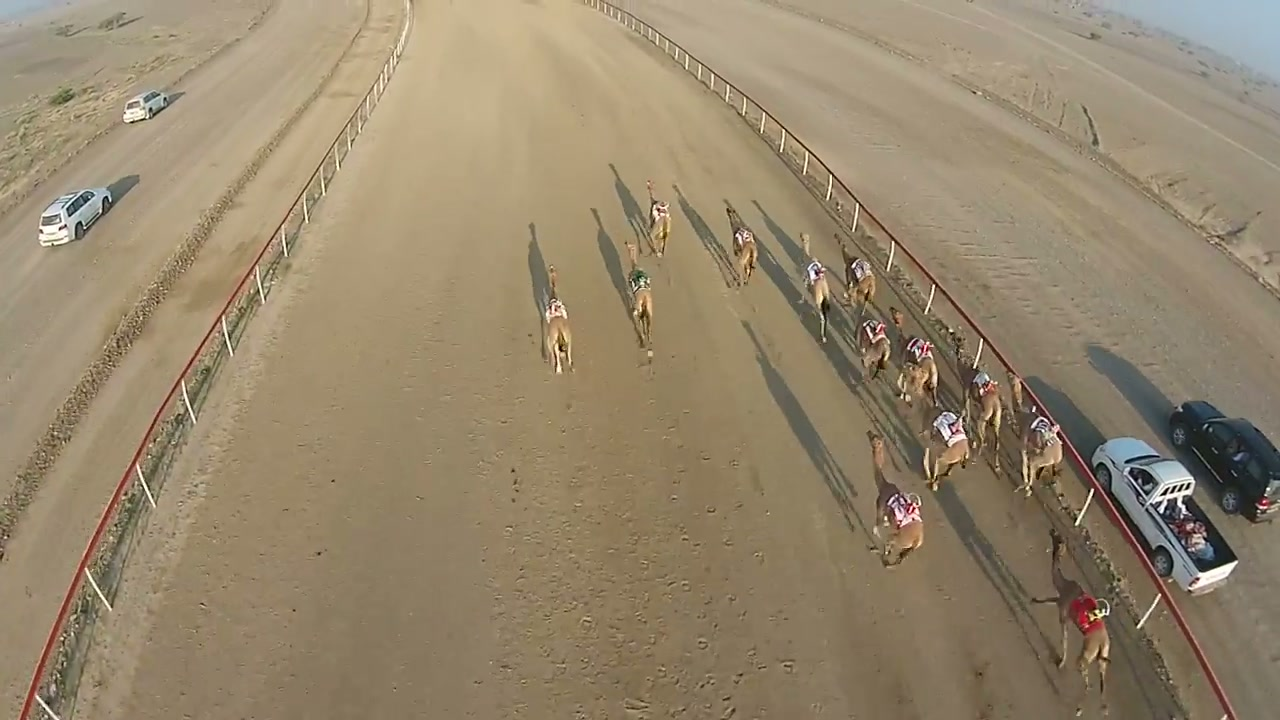animal_foot_print: (504, 346, 820, 718)
